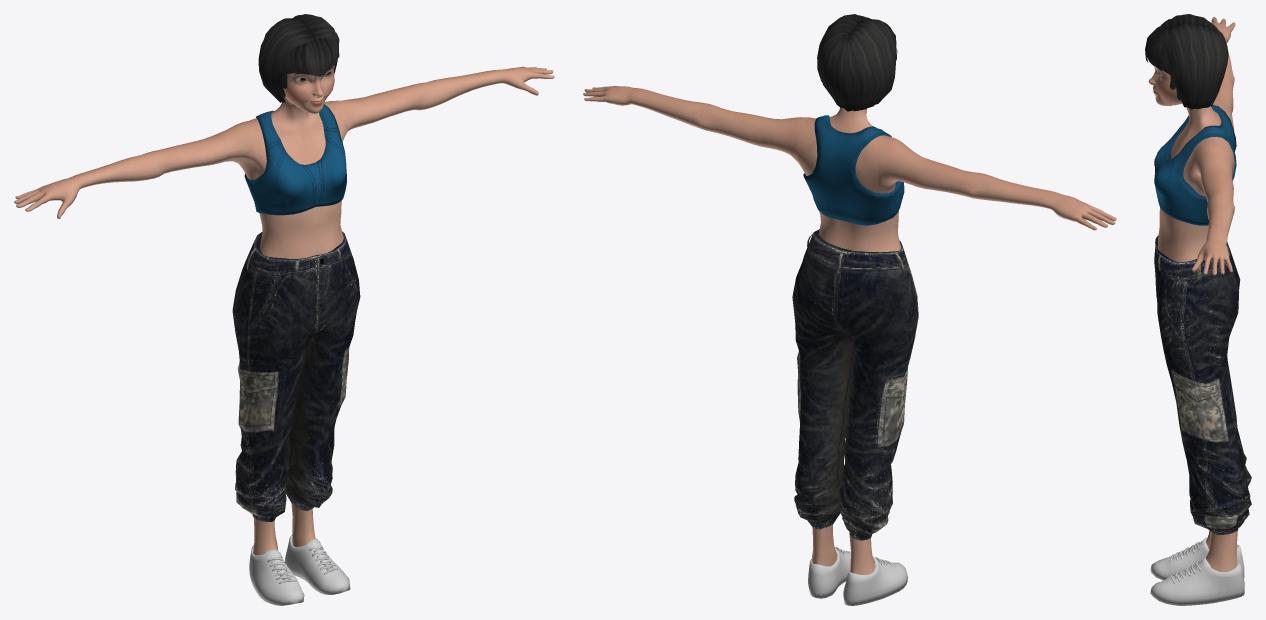
Rendered from Dancer2.obj.
The picture shows the model from 3 angles, left to right: view 1: azimuth 30°, elevation 25°; view 2: azimuth 150°, elevation 25°; view 3: azimuth 270°, elevation 25°; orthographic projection.
Parts seen in each view (by area): view 1: Bottoms, Body, Tops, Hair, Shoes; view 2: Bottoms, Body, Hair, Tops, Shoes; view 3: Bottoms, Body, Hair, Shoes, Tops.
Boxes of the visible parts, x1,y1,x2,y2 form: Bottoms: (232,231,360,521); Body: (14,65,554,555); Tops: (244,104,346,215); Hair: (258,14,339,102); Shoes: (249,535,350,605); Bottoms: (792,229,918,540); Body: (583,86,1116,574); Hair: (817,14,897,111); Tops: (803,115,904,225); Shoes: (808,547,907,605); Bottoms: (1154,235,1251,534); Body: (1148,17,1237,571); Hair: (1145,14,1228,109); Shoes: (1150,537,1244,605); Tops: (1154,105,1236,225).
Size of the model in its own units: 169 by 171 by 29.26.
